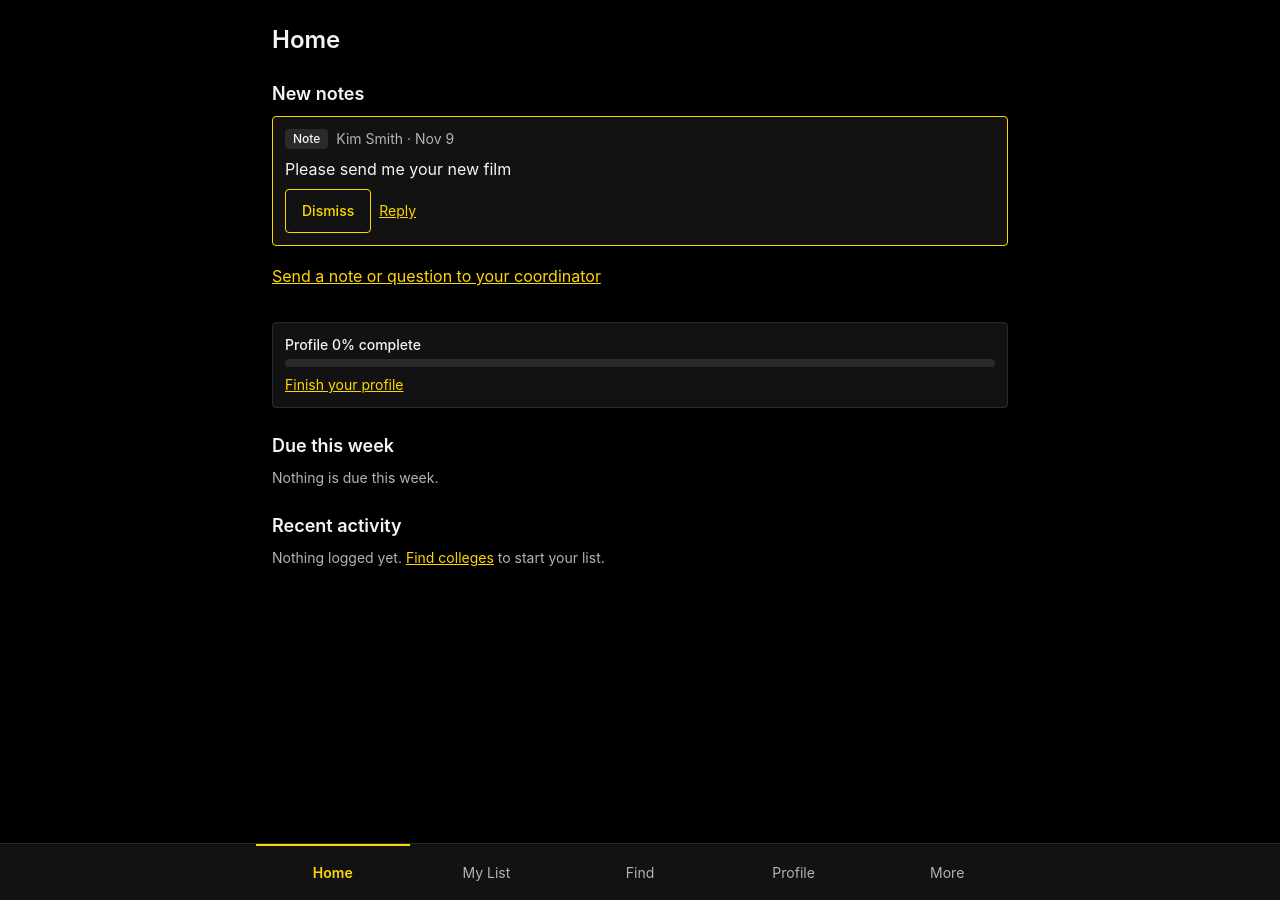
Test: Athlete: notes on Home › reloads Home after a dismissal so the note goes away
Click the button "Dismiss".
click(328, 211)  # box left=285, top=189, right=371, bottom=233
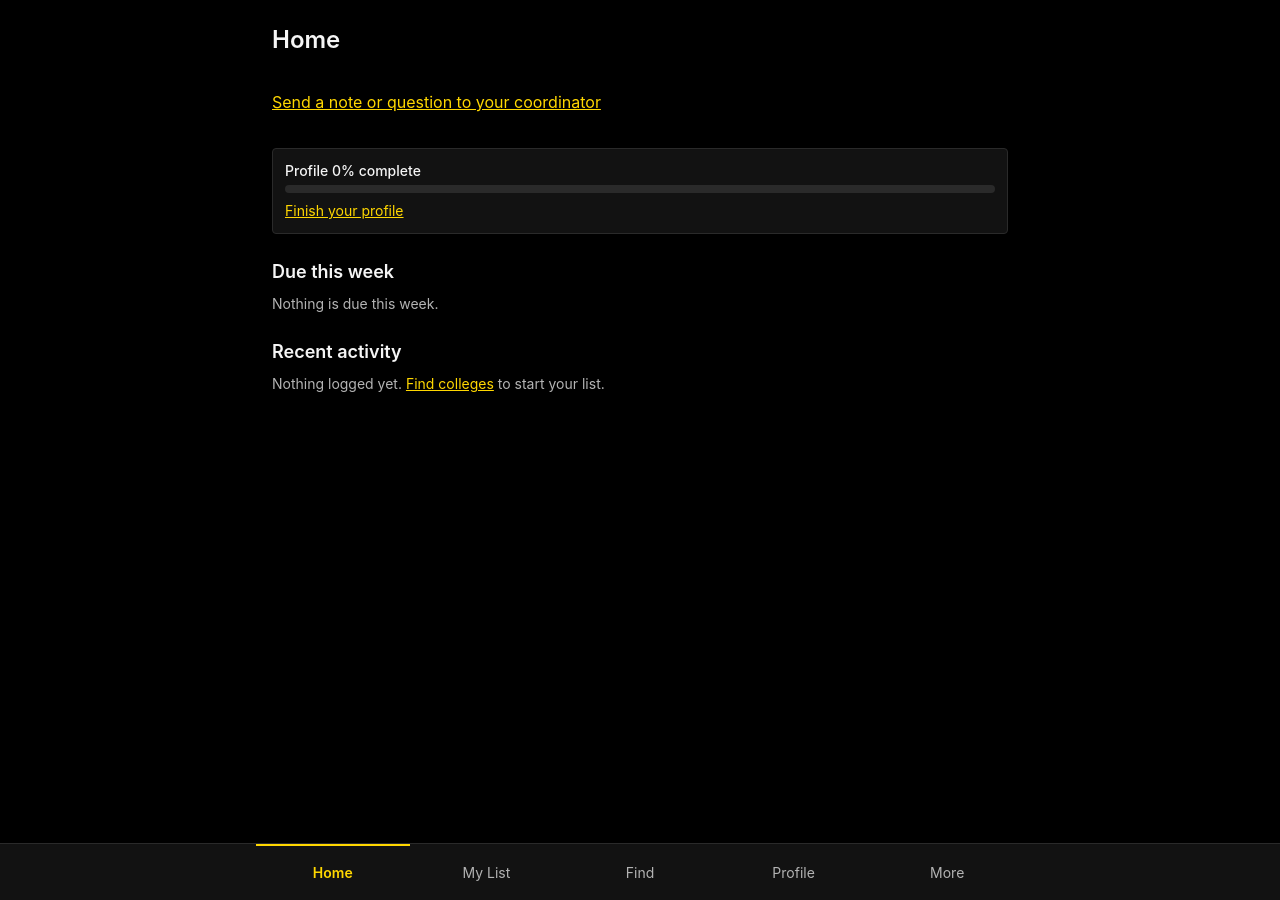
Check: the heading "New notes" is gone
